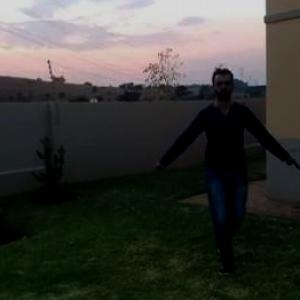land: (149, 76, 290, 255)
